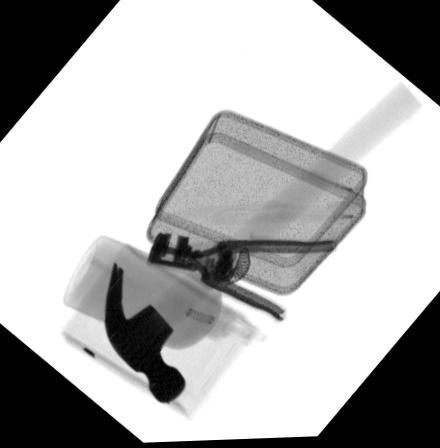Hammer: (102, 85, 421, 406)
Pliers: (144, 233, 330, 326)
